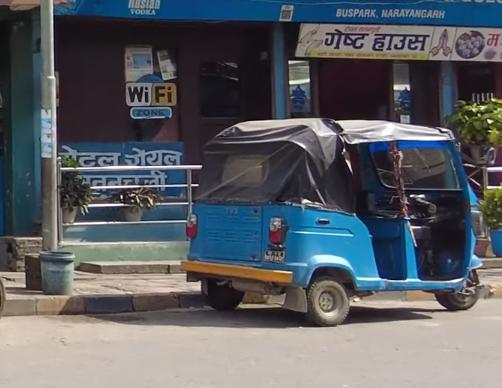auto_rickshaw: (181, 119, 489, 330)
